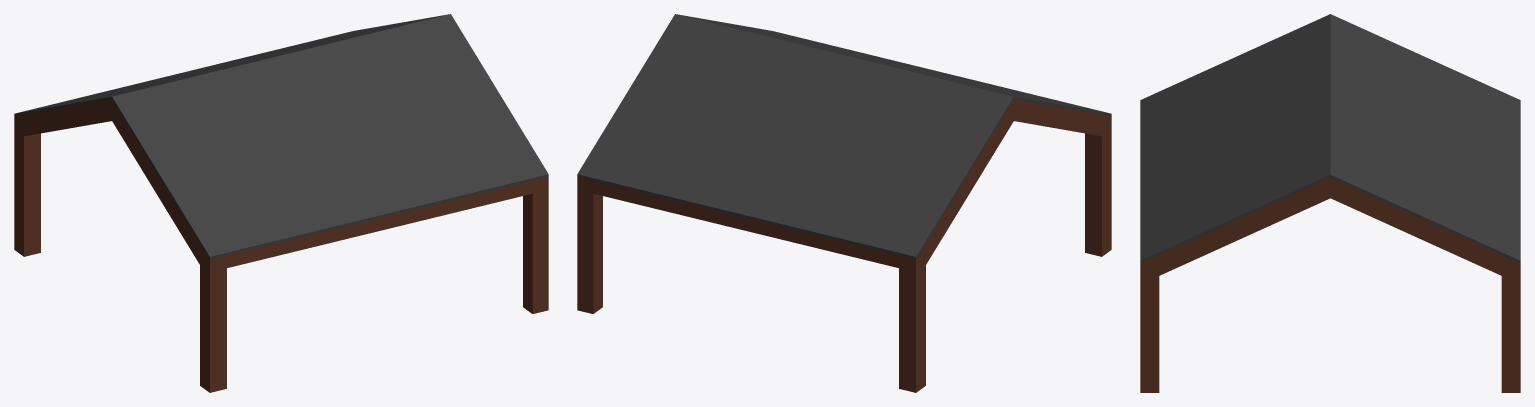
The model's file is factory_storage_01.fbx.
The picture shows the model from 3 angles, left to right: view 1: azimuth 30°, elevation 25°; view 2: azimuth 150°, elevation 25°; view 3: azimuth 270°, elevation 25°; orthographic projection. The views are drawn at different scales.
Parts seen in each view (by area): view 1: storage_01; view 2: storage_01; view 3: storage_01.
Boxes of the visible parts, <box> form: storage_01: <box>14,14,548,392</box>; storage_01: <box>577,14,1111,392</box>; storage_01: <box>1140,14,1520,392</box>.
Bounding box in the file's own units: 800 × 507 × 800.
